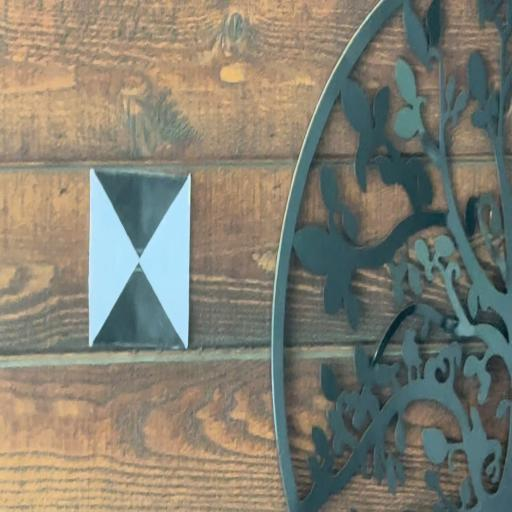target: (89, 174, 191, 348)
